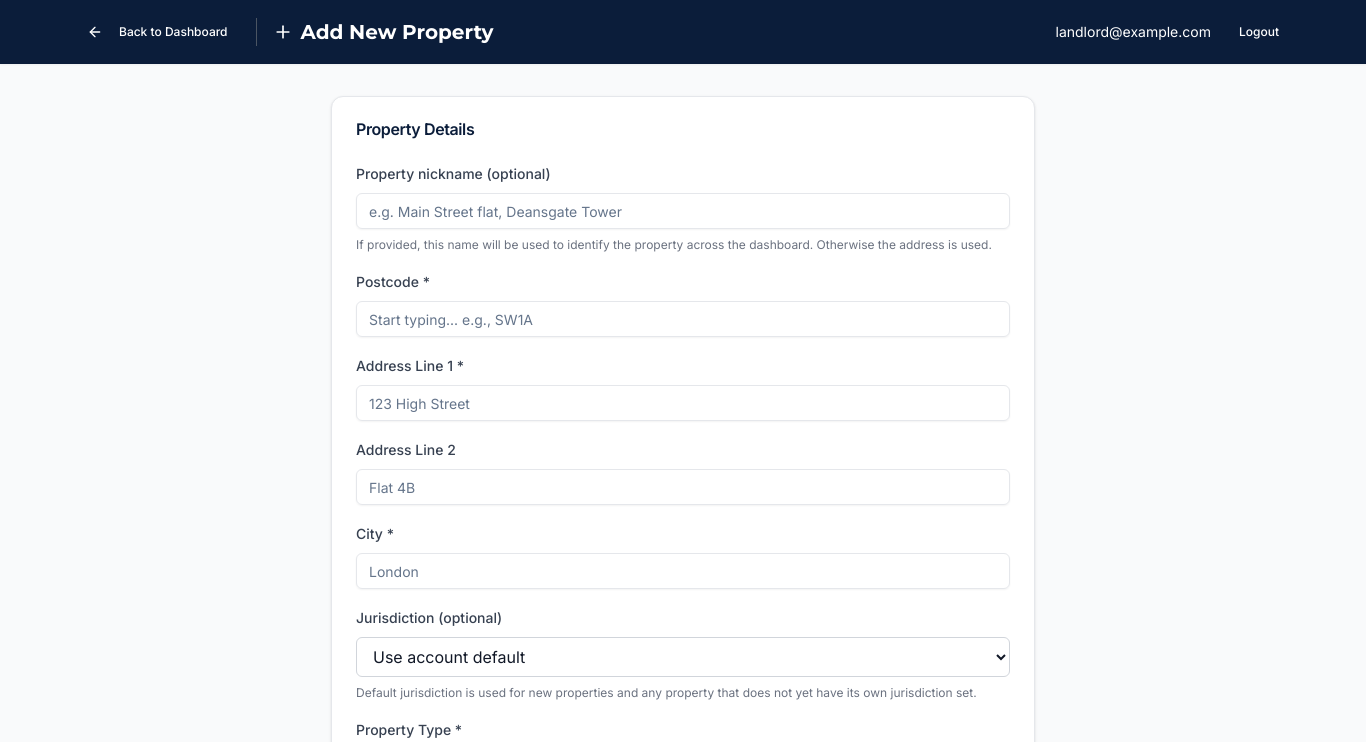
Test: PropertyCreatePage address lookup › shows postcode suggestions and fills city after selection
This screenshot has width=1366, height=742.
Type "SW1A" into the field with test id "postcode-input". click: (683, 319)
box: x1=356 y1=301 x2=1010 y2=337
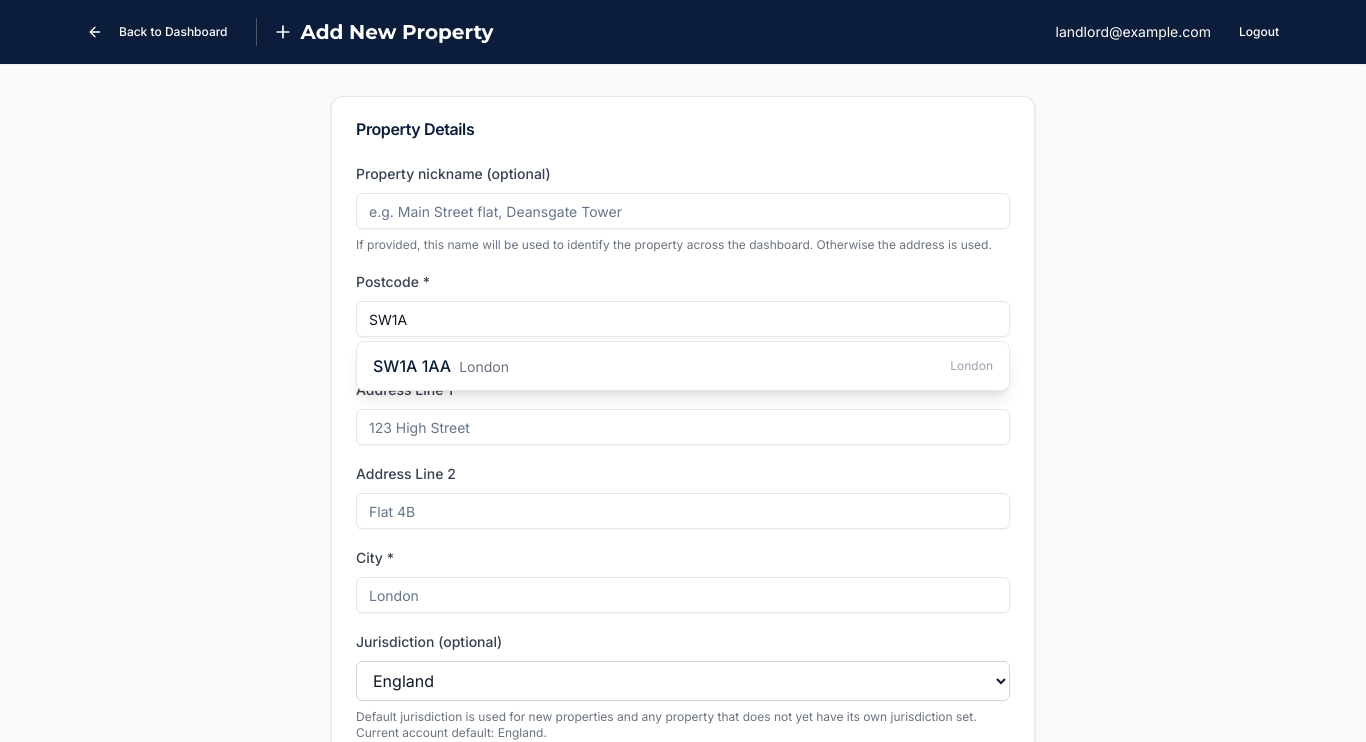
Expected: the element with test id "postcode-suggestions-dropdown" is shown
Press the mouse on the button with test id "postcode-suggestion-0" at (412, 366), box x1=357 y1=342 x2=1009 y2=390
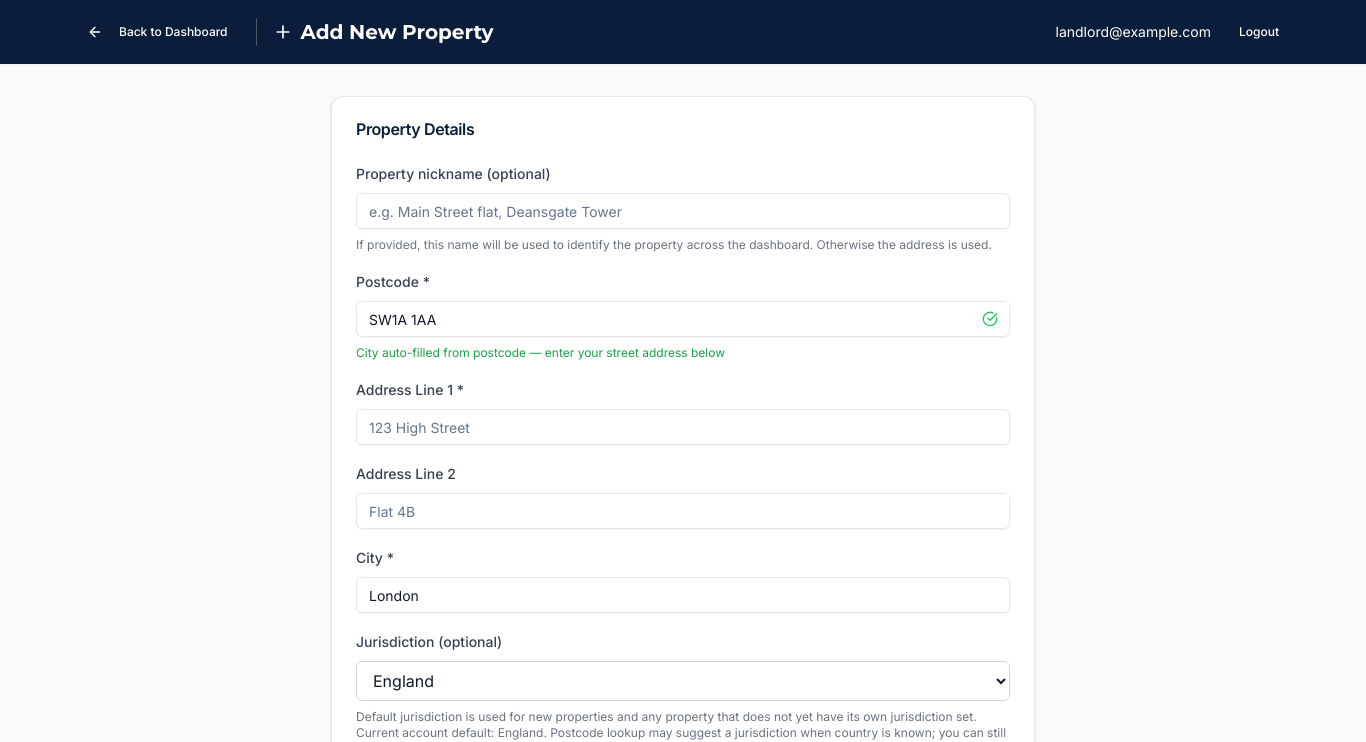
Expected: the field with test id "city-input" holds "London", x1=356 y1=577 x2=1010 y2=613
